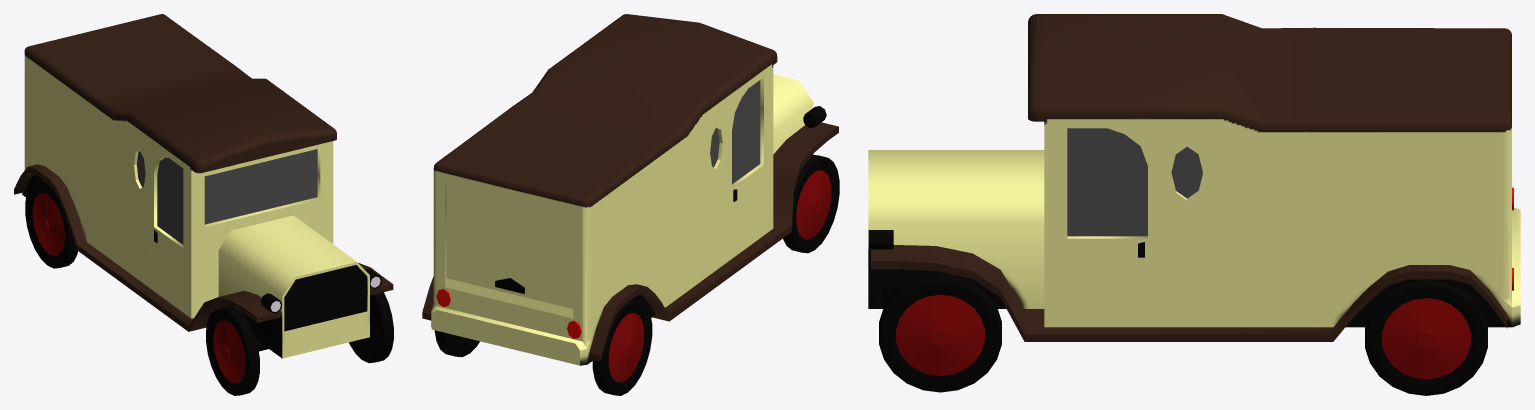
File: TESTCAR.fbx
The picture shows the model from 3 angles, left to right: view 1: azimuth 30°, elevation 25°; view 2: azimuth 150°, elevation 25°; view 3: azimuth 270°, elevation 25°; orthographic projection. The views are drawn at different scales.
Visible parts, largest first — view 1: CHASSIS, WHEELSFR, WHEELSRR, WHEELSFL; view 2: CHASSIS, DOORL, DOORR, WHEELSRR, WHEELSFR, WHEELSRL, LIGHT; view 3: CHASSIS, WHEELSFL, WHEELSRL.
Boxes of the visible parts, bbox=[...] form: CHASSIS: bbox=[14, 14, 393, 358]; WHEELSFR: bbox=[206, 306, 259, 395]; WHEELSRR: bbox=[25, 180, 77, 268]; WHEELSFL: bbox=[349, 292, 393, 363]; CHASSIS: bbox=[422, 14, 838, 365]; DOORL: bbox=[446, 175, 510, 293]; DOORR: bbox=[509, 190, 573, 308]; WHEELSRR: bbox=[592, 299, 652, 395]; WHEELSFR: bbox=[783, 155, 839, 253]; WHEELSRL: bbox=[434, 330, 479, 357]; LIGHT: bbox=[436, 288, 581, 338]; CHASSIS: bbox=[868, 14, 1520, 341]; WHEELSFL: bbox=[879, 273, 1001, 392]; WHEELSRL: bbox=[1365, 279, 1487, 395].
Bounding box in the file's own units: 1.31 × 1.66 × 3.31.
